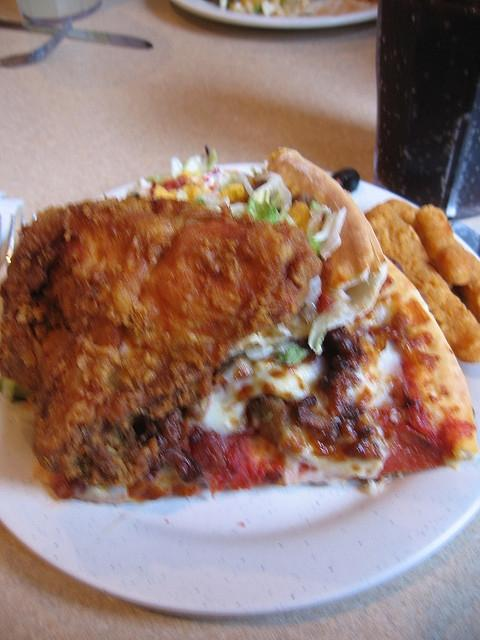lettuce: (308, 304, 349, 356), (320, 206, 347, 262), (246, 190, 282, 224), (278, 344, 309, 364), (306, 234, 322, 258), (207, 148, 217, 171)
